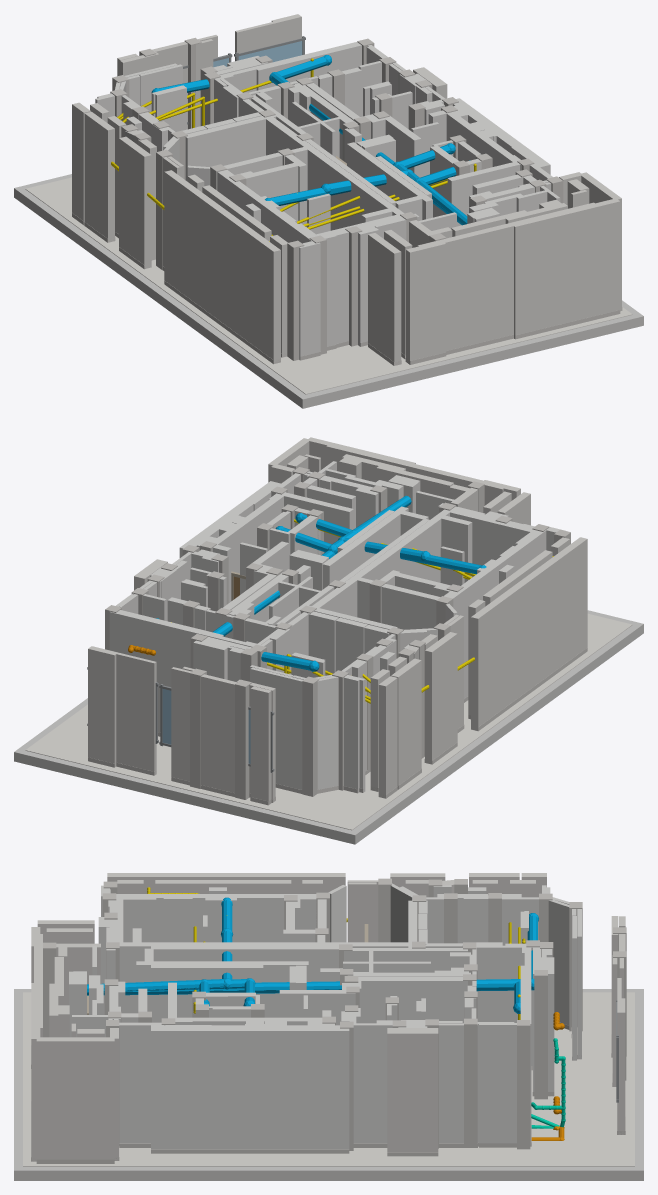
The model's file is bim_b1cd08488d7d.glb.
3 views of the same model, one above another, from view 1: azimuth 30°, elevation 25°; view 2: azimuth 150°, elevation 25°; view 3: azimuth 270°, elevation 25° (orthographic). The views are drawn at different scales.
Parts seen in each view (by area): view 1: arch_geometry_3, arch_geometry_25, arch_geometry_0, arch_geometry_9, arch_geometry_391, arch_geometry_189, arch_geometry_193, arch_geometry_1, arch_geometry_87, arch_geometry_145, arch_geometry_41, arch_geometry_177 (+49 smaller); view 2: arch_geometry_3, arch_geometry_0, arch_geometry_161, arch_geometry_393, arch_geometry_15, arch_geometry_43, arch_geometry_87, arch_geometry_1, arch_geometry_89, arch_geometry_217, arch_geometry_394, arch_geometry_145 (+47 smaller); view 3: arch_geometry_17, arch_geometry_0, arch_geometry_81, arch_geometry_394, arch_geometry_181, arch_geometry_392, arch_geometry_393, arch_geometry_143, arch_geometry_113, arch_geometry_37, arch_geometry_33, arch_geometry_5 (+66 smaller).
Boxes of the visible parts, box(x1,y1,x2,y2) form: arch_geometry_3: box(164, 170, 280, 363); arch_geometry_25: box(512, 198, 620, 338); arch_geometry_0: box(14, 174, 643, 408); arch_geometry_9: box(417, 202, 597, 350); arch_geometry_391: box(119, 255, 475, 394); arch_geometry_189: box(406, 242, 445, 364); arch_geometry_193: box(368, 233, 401, 365); arch_geometry_1: box(264, 116, 404, 230); arch_geometry_87: box(119, 136, 151, 268); arch_geometry_145: box(84, 111, 114, 242); arch_geometry_41: box(185, 113, 279, 181); arch_geometry_177: box(299, 241, 320, 359); arch_geometry_3: box(471, 537, 587, 730); arch_geometry_0: box(14, 610, 643, 844); arch_geometry_161: box(90, 646, 156, 775); arch_geometry_393: box(182, 757, 445, 830); arch_geometry_15: box(109, 611, 255, 732); arch_geometry_43: box(201, 674, 236, 792); arch_geometry_87: box(425, 632, 457, 764); arch_geometry_1: box(312, 508, 454, 617); arch_geometry_89: box(250, 667, 302, 789); arch_geometry_217: box(88, 647, 116, 767); arch_geometry_394: box(25, 704, 186, 788); arch_geometry_145: box(391, 658, 421, 788); arch_geometry_17: box(151, 1025, 349, 1149); arch_geometry_0: box(14, 989, 643, 1180); arch_geometry_81: box(36, 1037, 114, 1159); arch_geometry_394: box(431, 1082, 634, 1166); arch_geometry_181: box(387, 1028, 438, 1151); arch_geometry_392: box(23, 1082, 430, 1166); arch_geometry_393: box(531, 992, 634, 1082); arch_geometry_143: box(479, 1023, 516, 1143); arch_geometry_113: box(353, 1023, 392, 1143); arch_geometry_37: box(358, 977, 467, 1023); arch_geometry_33: box(119, 1022, 163, 1143); arch_geometry_5: box(116, 894, 316, 942).
Bounding box in the file's own units: 9.48 × 3.29 × 13.9.
